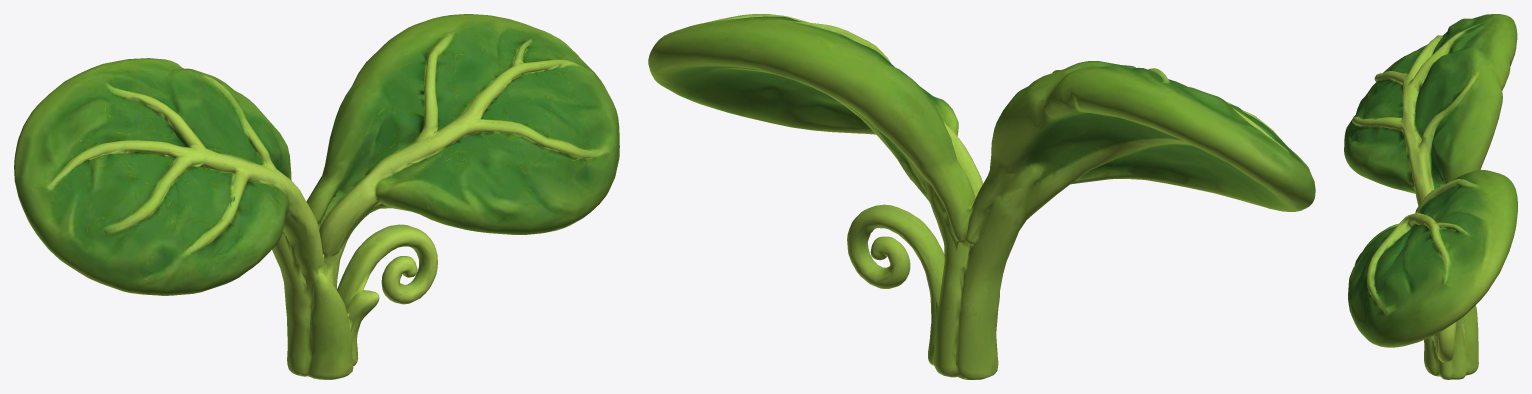
Rendered from pumpkin-sprout.glb.
The picture shows the model from 3 angles, left to right: view 1: azimuth 30°, elevation 25°; view 2: azimuth 150°, elevation 25°; view 3: azimuth 270°, elevation 25°; orthographic projection. The views are drawn at different scales.
Size of the model in its own units: 1.9 by 1.02 by 0.591.
1 material, 1 textured.
